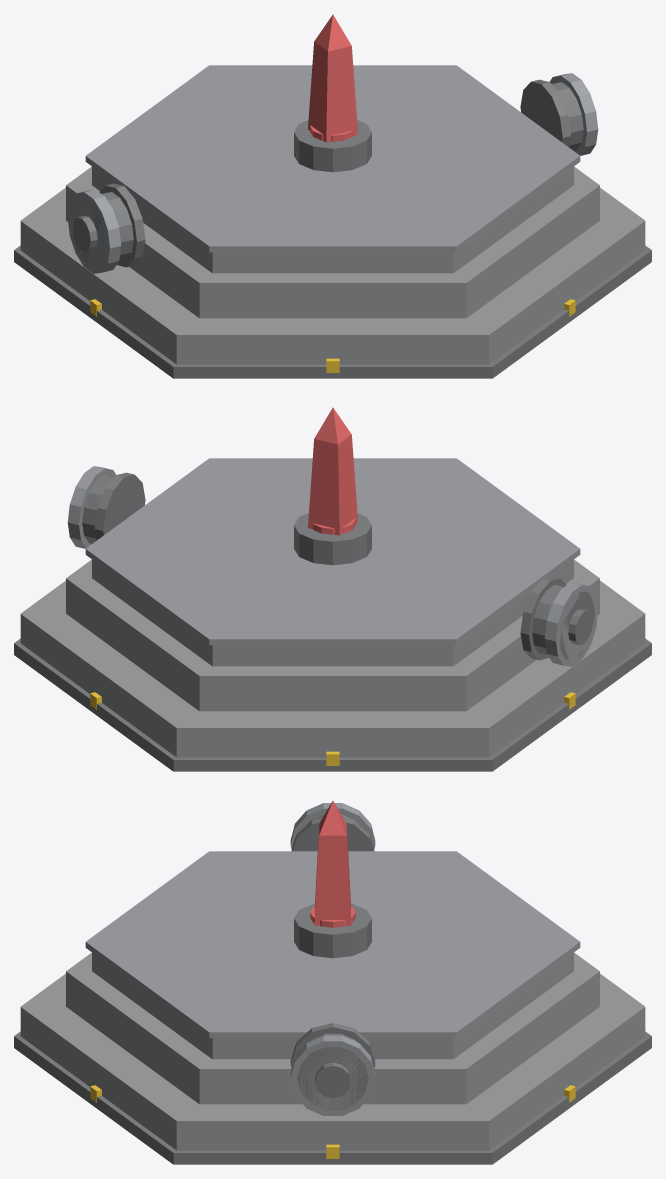
Rendered from energy_node_s1_100.glb.
3 renders of one model, top to bottom at view 1: azimuth 30°, elevation 25°; view 2: azimuth 150°, elevation 25°; view 3: azimuth 270°, elevation 25°, orthographic.
Parts seen in each view (by area): view 1: EN_Base; view 2: EN_Base; view 3: EN_Base.
Part boxes in pixels (left/top/right/bottom): EN_Base: left=14, top=14, right=651, bottom=378; EN_Base: left=14, top=407, right=651, bottom=771; EN_Base: left=14, top=801, right=651, bottom=1164.
Size of the model in its own units: 1.78 by 0.84 by 1.96.
